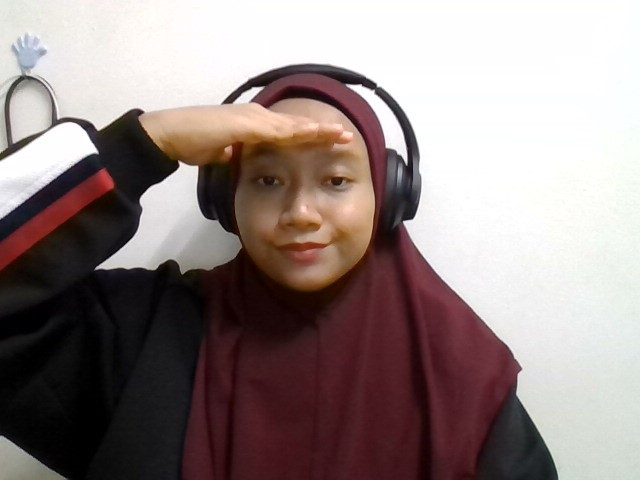Johor: (179, 102, 368, 168)
